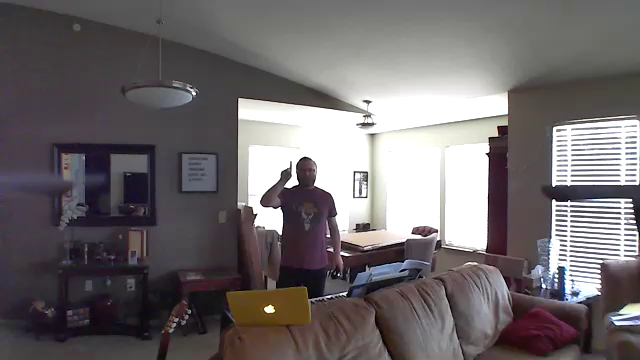up: (277, 158, 297, 187)
